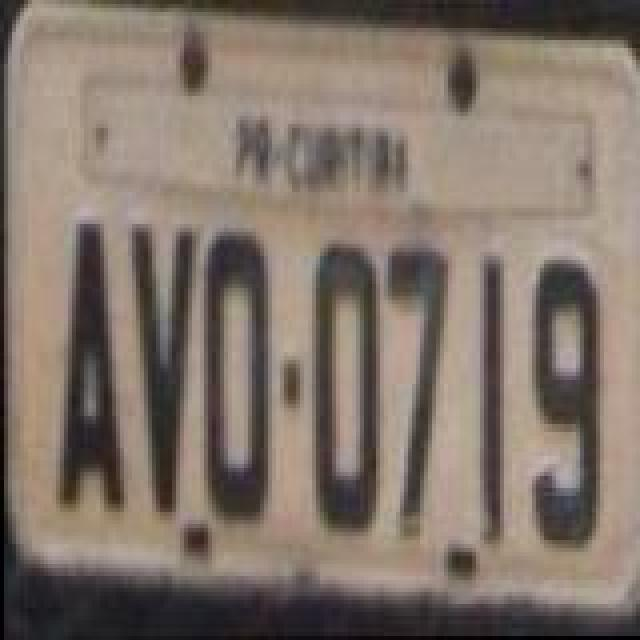1: (476, 252, 504, 552)
7: (386, 246, 450, 542)
9: (526, 256, 598, 552)
A: (56, 218, 124, 510)
O: (200, 226, 268, 522), (312, 242, 380, 538)
V: (130, 224, 194, 520)
